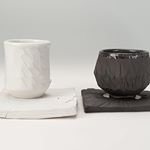cups: (2, 37, 54, 102), (91, 45, 150, 101)
